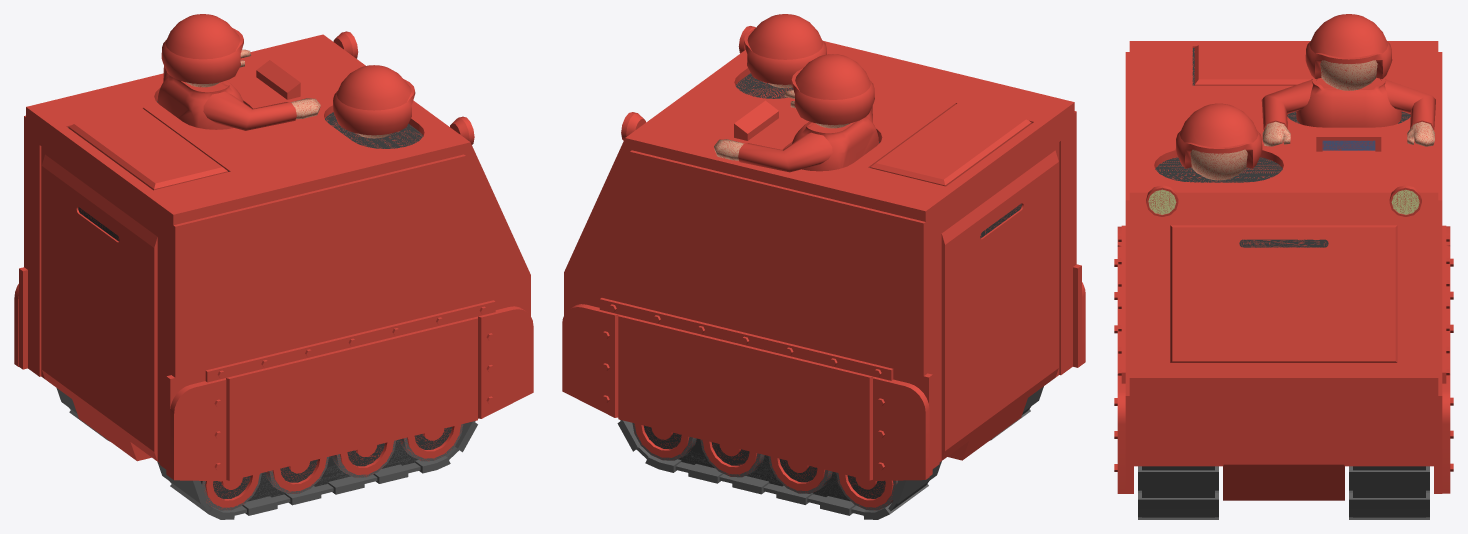
File: Orange_Star_APC.dae
The picture shows the model from 3 angles, left to right: view 1: azimuth 30°, elevation 25°; view 2: azimuth 150°, elevation 25°; view 3: azimuth 270°, elevation 25°; orthographic projection. The views are drawn at different scales.
Parts seen in each view (by area): view 1: APC-Body (×3), APC-Armr, Driver01 (×2), APCTrack (×2), Body, Periscop, APCWHEEL; view 2: APC-Body (×3), APC-Armr, Driver01 (×2), APCTrack (×2), Body, Periscop, APCWHEEL; view 3: APC-Body (×5), Driver01 (×4), APCTrack (×2), Body (×3), APC-Armr (×2), Light (×2), Periscop (×2).
Boxes of the visible parts, bbox=[...] form: APC-Body (×3): bbox=[19, 34, 530, 476]; APC-Armr: bbox=[170, 300, 533, 481]; Driver01 (×2): bbox=[161, 14, 415, 135]; APCTrack (×2): bbox=[157, 421, 477, 519]; Body: bbox=[157, 66, 296, 130]; Periscop: bbox=[256, 60, 300, 99]; APCWHEEL: bbox=[205, 473, 259, 507]; APC-Body (×3): bbox=[564, 41, 1081, 475]; APC-Armr: bbox=[562, 298, 929, 480]; Driver01 (×2): bbox=[744, 14, 874, 124]; APCTrack (×2): bbox=[617, 420, 941, 519]; Body: bbox=[738, 106, 878, 172]; Periscop: bbox=[734, 100, 778, 140]; APCWHEEL: bbox=[838, 473, 893, 507]; APC-Body (×5): bbox=[1125, 41, 1442, 500]; Driver01 (×4): bbox=[1175, 14, 1392, 180]; APCTrack (×2): bbox=[1138, 466, 1429, 519]; Body (×3): bbox=[1261, 77, 1435, 146]; APC-Armr (×2): bbox=[1117, 225, 1450, 493]; Light (×2): bbox=[1148, 189, 1419, 214]; Periscop (×2): bbox=[1316, 137, 1381, 151].
Bounding box in the file's own units: 213 × 165 × 230.
